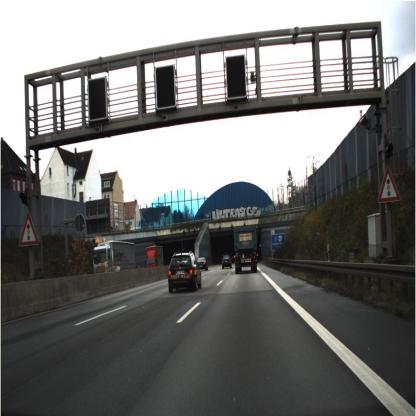danger: (16, 207, 42, 252), (374, 168, 402, 206)
